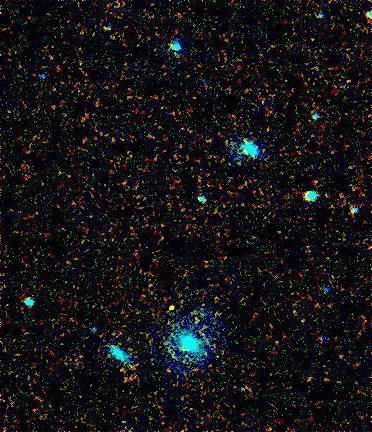star: (157, 293, 187, 323)
